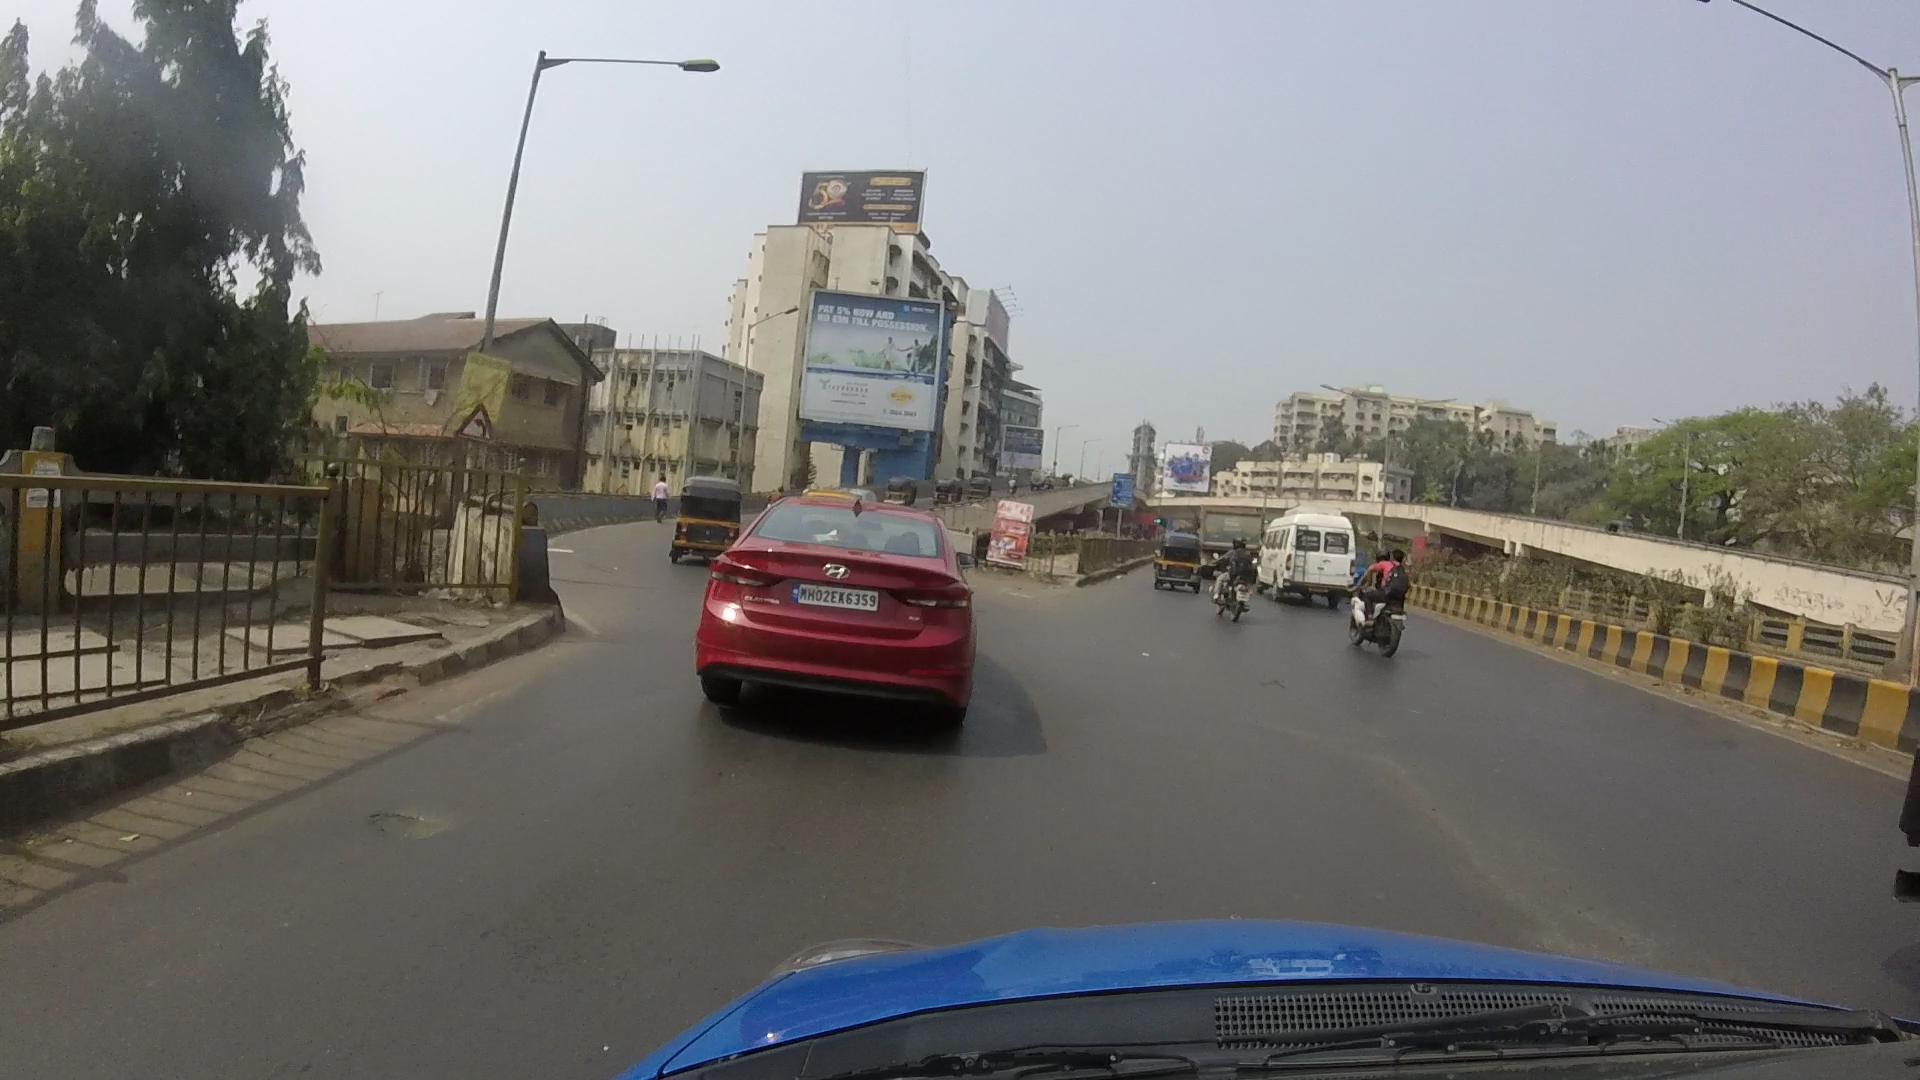bike/scooter: (1346, 549, 1422, 654)
car: (705, 498, 972, 707), (1263, 504, 1358, 589)
rickshaw: (651, 477, 746, 556), (1149, 524, 1211, 589)
